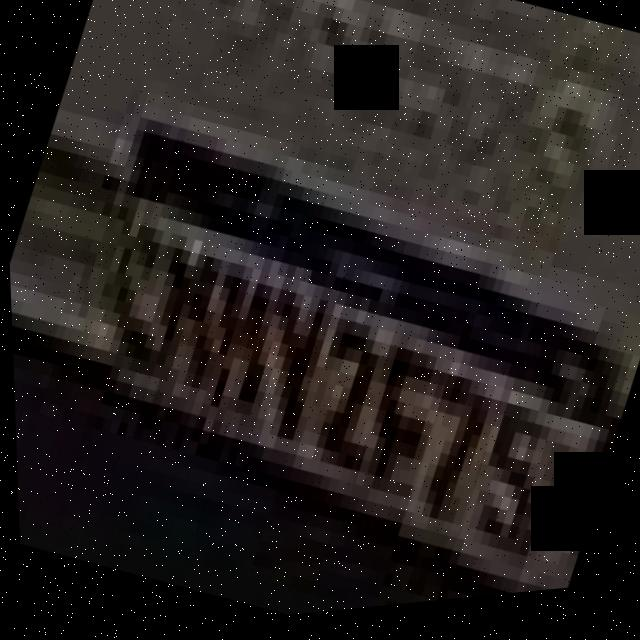5: (450, 407, 562, 569)
7: (398, 378, 505, 545)
F: (344, 334, 458, 510)
Y: (226, 278, 344, 451)
